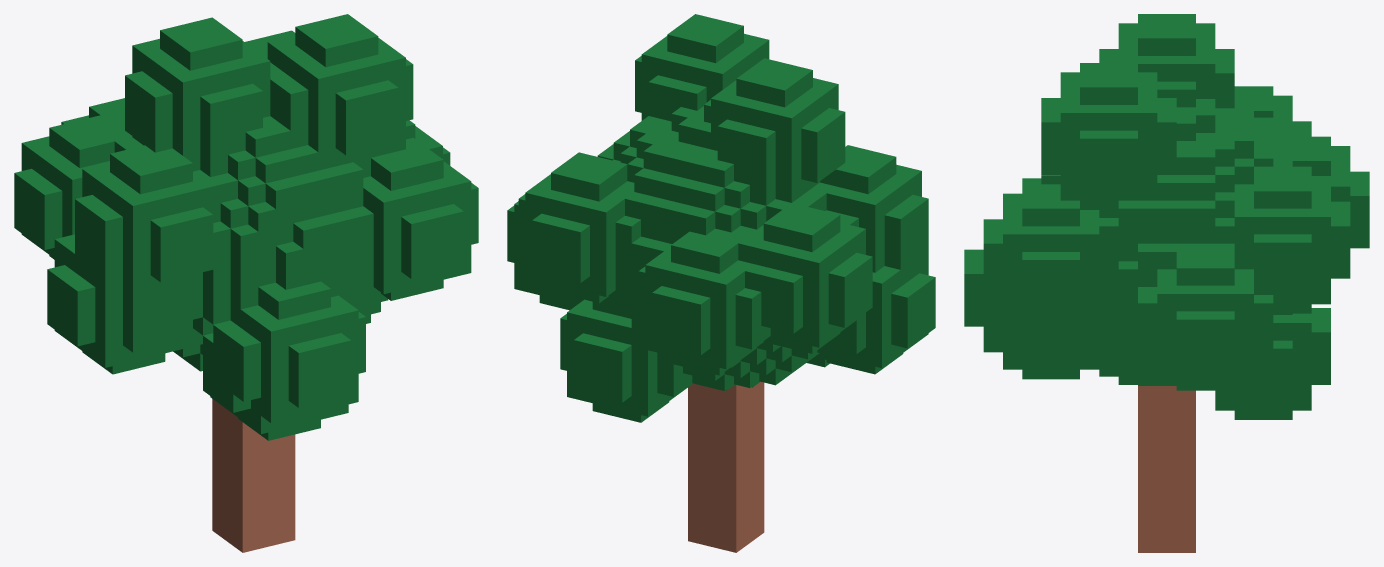
Rendered from Tree2.obj.
3 views of the same model, side by side, from view 1: azimuth 30°, elevation 25°; view 2: azimuth 150°, elevation 25°; view 3: azimuth 270°, elevation 25° (orthographic). The views are drawn at different scales.
Parts seen in each view (by area): view 1: Tree2; view 2: Tree2; view 3: Tree2.
Boxes of the visible parts, x1=… form: Tree2: x1=14, y1=14, x2=478, y2=552; Tree2: x1=507, y1=14, x2=935, y2=552; Tree2: x1=964, y1=14, x2=1369, y2=552.
Size of the model in its own units: 23 by 28 by 21.
1 material, 1 textured.
